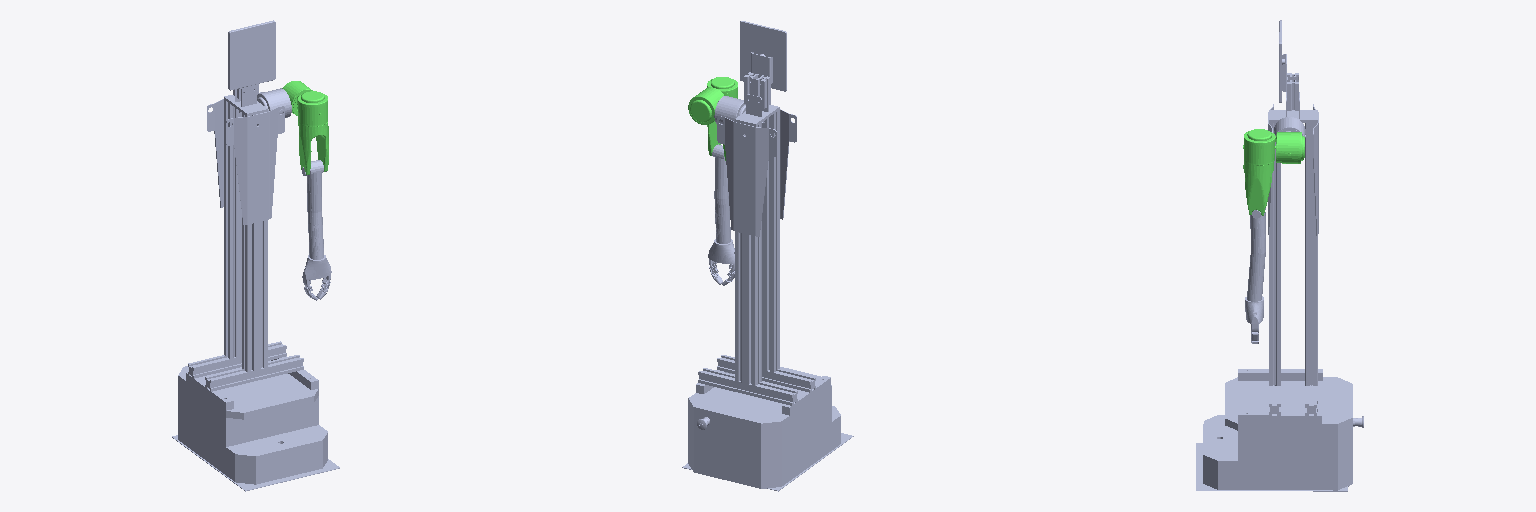
The robot description file, URDF, robot "artbot":
<?xml version="1.0" encoding="utf-8" ?>
<!-- This URDF was automatically created by SolidWorks to URDF Exporter! Originally created by [author] ([email redacted]) 
     Commit Version: 1.5.1-0-g916b5db  Build Version: 1.5.7152.31018
     For more information, please see http://wiki.ros.org/sw_urdf_exporter -->
<robot name="artbot">
    <link name="base_link">
        
<inertial>
            <origin xyz="0.00185312215918698 0.0399913545923669 0.239493994552394" rpy="0 0 0" />
            <mass value="26.9408384150318" />
            <inertia ixx="0.786117810110698" ixy="-0.00103935700044474" ixz="-0.000371491770706058" iyy="0.577109053712677" iyz="-0.0774113755567862" izz="0.669530810421685" />
        </inertial>

        <visual>
            <origin xyz="0 0 0" rpy="0 0 0" />
            <geometry>
                <mesh filename="package://artbot/meshes/base_link.STL" />
            </geometry>
            <material name="">
                <color rgba="0.792156862745098 0.819607843137255 0.933333333333333 1" />
            </material>
        </visual>
        <collision>
            <origin xyz="0 0 0" rpy="0 0 0" />
            <geometry>
                <mesh filename="package://artbot/meshes/base_link.STL" />
            </geometry>
        </collision>
    </link>
    <link name="Link1">
        
<inertial>
            <origin xyz="-0.0119499744904408 0.0588403286244772 1.28752148942368E-08" rpy="0 0 0" />
            <mass value="0.290050923059125" />
            <inertia ixx="0.000472723454898701" ixy="-1.70830969016571E-11" ixz="2.71078713429734E-11" iyy="0.000280800928472812" iyz="6.84166308081625E-08" izz="0.000288726126215457" />
        </inertial>

        <visual>
            <origin xyz="0 0 0" rpy="0 0 0" />
            <geometry>
                <mesh filename="package://artbot/meshes/Link1.STL" />
            </geometry>
            <material name="">
                <color rgba="0.501960784313725 1 0.501960784313725 1" />
            </material>
        </visual>
        <collision>
            <origin xyz="0 0 0" rpy="0 0 0" />
            <geometry>
                <mesh filename="package://artbot/meshes/Link1.STL" />
            </geometry>
        </collision>
    </link>
    <joint name="ExtampFlex" type="revolute">
        <origin xyz="0.1391 0.036717 1.2212" rpy="0.031302 -0.022783 -1.5768" />
        <parent link="base_link" />
        <child link="Link1" />
        <axis xyz="0 1 0" />
        <limit lower="-2.6" upper="2.6" effort="10.0" velocity="10.0" />
    </joint>
    <link name="Link2">
        
<inertial>
            <origin xyz="0.0716311847311801 -0.061317238207508 -7.84508624729341E-08" rpy="0 0 0" />
            <mass value="0.797885605068758" />
            <inertia ixx="0.00131043740788724" ixy="4.27327214932654E-10" ixz="-1.72009525676167E-10" iyy="0.00197616819943127" iyz="3.28649492760946E-05" izz="0.00168856072846654" />
        </inertial>

        <visual>
            <origin xyz="0 0 0" rpy="0 0 0" />
            <geometry>
                <mesh filename="package://artbot/meshes/Link2.STL" />
            </geometry>
            <material name="">
                <color rgba="0.501960784313725 1 0.501960784313725 1" />
            </material>
        </visual>
        <collision>
            <origin xyz="0 0 0" rpy="0 0 0" />
            <geometry>
                <mesh filename="package://artbot/meshes/Link2.STL" />
            </geometry>
        </collision>
    </link>
    <joint name="AddampAbd" type="revolute">
        <origin xyz="0.036883 0.05884 0" rpy="-3.1416 1.5506 -1.5708" />
        <parent link="Link1" />
        <child link="Link2" />
        <axis xyz="0 1 0" />
        <limit lower="-2.6" upper="2.6" effort="10.0" velocity="10.0" />
    </joint>
    <link name="Link3">
        
<inertial>
            <origin xyz="-0.00339642249986927 -0.138123712921605 0.00668388044107915" rpy="0 0 0" />
            <mass value="0.702719761800887" />
            <inertia ixx="0.0073957453943334" ixy="-0.000294163517279355" ixz="-1.44089041468742E-09" iyy="0.000256811014040379" iyz="-1.11302814954285E-08" izz="0.00738650565858986" />
        </inertial>

        <visual>
            <origin xyz="0 0 0" rpy="0 0 0" />
            <geometry>
                <mesh filename="package://artbot/meshes/Link3.STL" />
            </geometry>
            <material name="">
                <color rgba="0.792156862745098 0.819607843137255 0.933333333333333 1" />
            </material>
        </visual>
        <collision>
            <origin xyz="0 0 0" rpy="0 0 0" />
            <geometry>
                <mesh filename="package://artbot/meshes/Link3.STL" />
            </geometry>
        </collision>
    </link>
    <joint name="Elbow" type="revolute">
        <origin xyz="0.2232 -0.060589 -0.0066439" rpy="-0.0038812 -0.10915 1.6064" />
        <parent link="Link2" />
        <child link="Link3" />
        <axis xyz="0 0 1" />
        <limit lower="-2.6" upper="2.6" effort="10.0" velocity="10.0" />
    </joint>
    <link name="Link4">
        
<inertial>
            <origin xyz="-2.20038691711721E-08 -0.220017169168654 2.96938742261332E-07" rpy="0 0 0" />
            <mass value="0.136264674811829" />
            <inertia ixx="4.88353957014528E-05" ixy="-5.30723597812896E-11" ixz="4.21287982991899E-09" iyy="6.70850263692867E-05" iyz="5.78714747806759E-11" izz="9.77972617416543E-05" />
        </inertial>

        <visual>
            <origin xyz="0 0 0" rpy="0 0 0" />
            <geometry>
                <mesh filename="package://artbot/meshes/Link4.STL" />
            </geometry>
            <material name="">
                <color rgba="0.792156862745098 0.819607843137255 0.933333333333333 1" />
            </material>
        </visual>
        <collision>
            <origin xyz="0 0 0" rpy="0 0 0" />
            <geometry>
                <mesh filename="package://artbot/meshes/Link4.STL" />
            </geometry>
        </collision>
    </link>
    <joint name="EndEff" type="revolute">
        <origin xyz="-0.015 -0.16471 0.0066837" rpy="0 -1.4266 0" />
        <parent link="Link3" />
        <child link="Link4" />
        <axis xyz="0 1 0" />
        <limit lower="-0.1" upper="0.1" effort="0" velocity="0" />
    </joint>
    
<transmission name="trans_ExtampFlex">
        <type>transmission_interface/SimpleTransmission</type>
        <joint name="ExtampFlex">
            <hardwareInterface>hardware_interface/EffortJointInterface</hardwareInterface>
        </joint>
        <actuator name="ExtampFlex_motor">
            <hardwareInterface>hardware_interface/EffortJointInterface</hardwareInterface>
            <mechanicalReduction>1</mechanicalReduction>
        </actuator>
    </transmission>
    <transmission name="trans_AddampAbd">
        <type>transmission_interface/SimpleTransmission</type>
        <joint name="AddampAbd">
            <hardwareInterface>hardware_interface/EffortJointInterface</hardwareInterface>
        </joint>
        <actuator name="AddampAbd_motor">
            <hardwareInterface>hardware_interface/EffortJointInterface</hardwareInterface>
            <mechanicalReduction>1</mechanicalReduction>
        </actuator>
    </transmission>
    <transmission name="trans_Elbow">
        <type>transmission_interface/SimpleTransmission</type>
        <joint name="Elbow">
            <hardwareInterface>hardware_interface/EffortJointInterface</hardwareInterface>
        </joint>
        <actuator name="Elbow_motor">
            <hardwareInterface>hardware_interface/EffortJointInterface</hardwareInterface>
            <mechanicalReduction>1</mechanicalReduction>
        </actuator>
    </transmission>
    <transmission name="trans_EndEff">
        <type>transmission_interface/SimpleTransmission</type>
        <joint name="EndEff">
            <hardwareInterface>hardware_interface/EffortJointInterface</hardwareInterface>
        </joint>
        <actuator name="EndEff_motor">
            <hardwareInterface>hardware_interface/EffortJointInterface</hardwareInterface>
            <mechanicalReduction>1</mechanicalReduction>
        </actuator>
    </transmission>
    <gazebo>
        <plugin name="gazebo_ros_control" filename="libgazebo_ros_control.so">
            <robotNamespace>/</robotNamespace>
        </plugin>
    </gazebo>
</robot>

--- What the picture shows (computed from the rendered views, not written in the file) ---
The picture shows the robot from 3 angles, left to right: view 1: azimuth 30°, elevation 25°; view 2: azimuth 150°, elevation 25°; view 3: azimuth 270°, elevation 25°; orthographic projection.
Model artbot with 5 links and 4 joints (4 revolute), rooted at base_link, posed every joint at zero.
Links seen in each view (by area): view 1: base_link, Link2, Link3, Link4; view 2: base_link, Link3, Link1, Link4, Link2; view 3: base_link, Link2, Link3, Link1, Link4.
Boxes of the visible links, left/top/right/bottom form: base_link: left=172, top=20, right=339, bottom=491; Link2: left=297, top=91, right=328, bottom=174; Link3: left=302, top=160, right=326, bottom=259; Link4: left=302, top=255, right=331, bottom=300; base_link: left=682, top=21, right=853, bottom=491; Link3: left=712, top=144, right=730, bottom=243; Link1: left=688, top=87, right=723, bottom=124; Link4: left=708, top=239, right=734, bottom=285; Link2: left=707, top=77, right=737, bottom=160; base_link: left=1196, top=20, right=1363, bottom=491; Link2: left=1243, top=129, right=1275, bottom=215; Link3: left=1247, top=208, right=1265, bottom=301; Link1: left=1276, top=132, right=1304, bottom=163; Link4: left=1245, top=296, right=1263, bottom=343.
Size in the robot's own frame: 0.4408 by 0.5522 by 1.57 metres.
Meshes: 5 distinct files referenced, 5 mesh visuals loaded (5 binary STL).